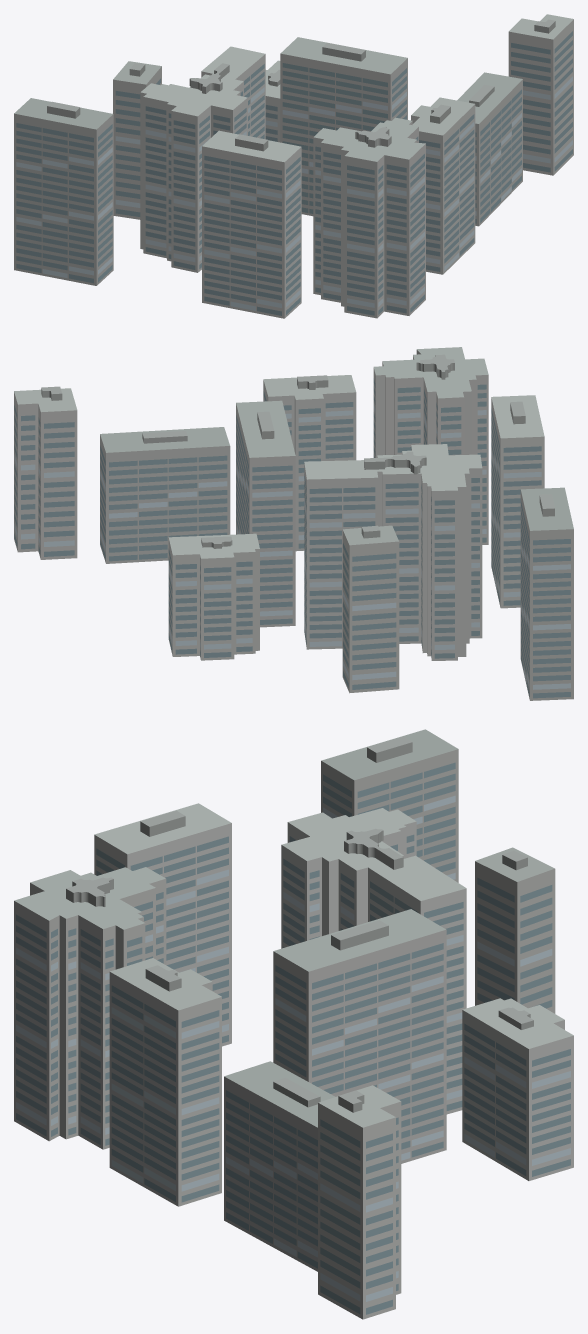
File: apt-a13075402.glb
3 renders of one model, top to bottom at view 1: azimuth 30°, elevation 25°; view 2: azimuth 150°, elevation 25°; view 3: azimuth 270°, elevation 25°, orthographic. The views are drawn at different scales.
Visible parts, largest first — view 1: apt-a13075402; view 2: apt-a13075402; view 3: apt-a13075402.
Part boxes in pixels (<box>): apt-a13075402: <box>14,14,573,318</box>; apt-a13075402: <box>14,347,573,700</box>; apt-a13075402: <box>14,729,573,1319</box>.
Size of the model in its own units: 189 by 55 by 121.
